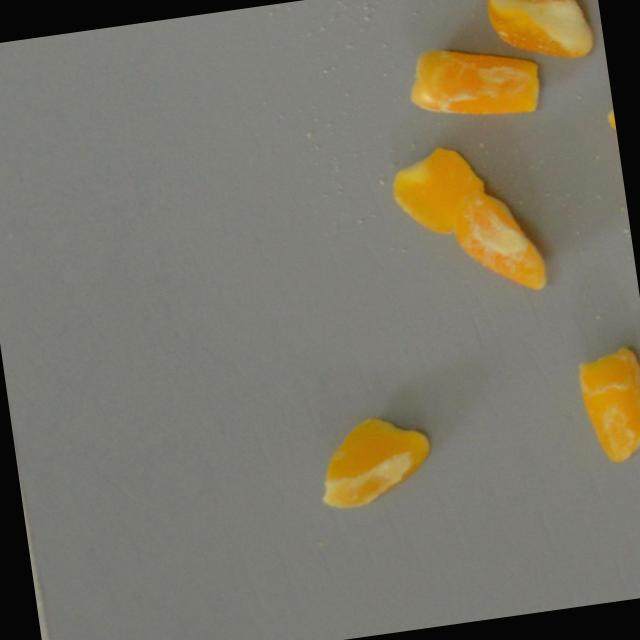dañado: (395, 29, 549, 131), (303, 403, 443, 514), (444, 179, 554, 303), (386, 140, 491, 242), (568, 340, 640, 469), (480, 0, 601, 72), (593, 84, 623, 176)
